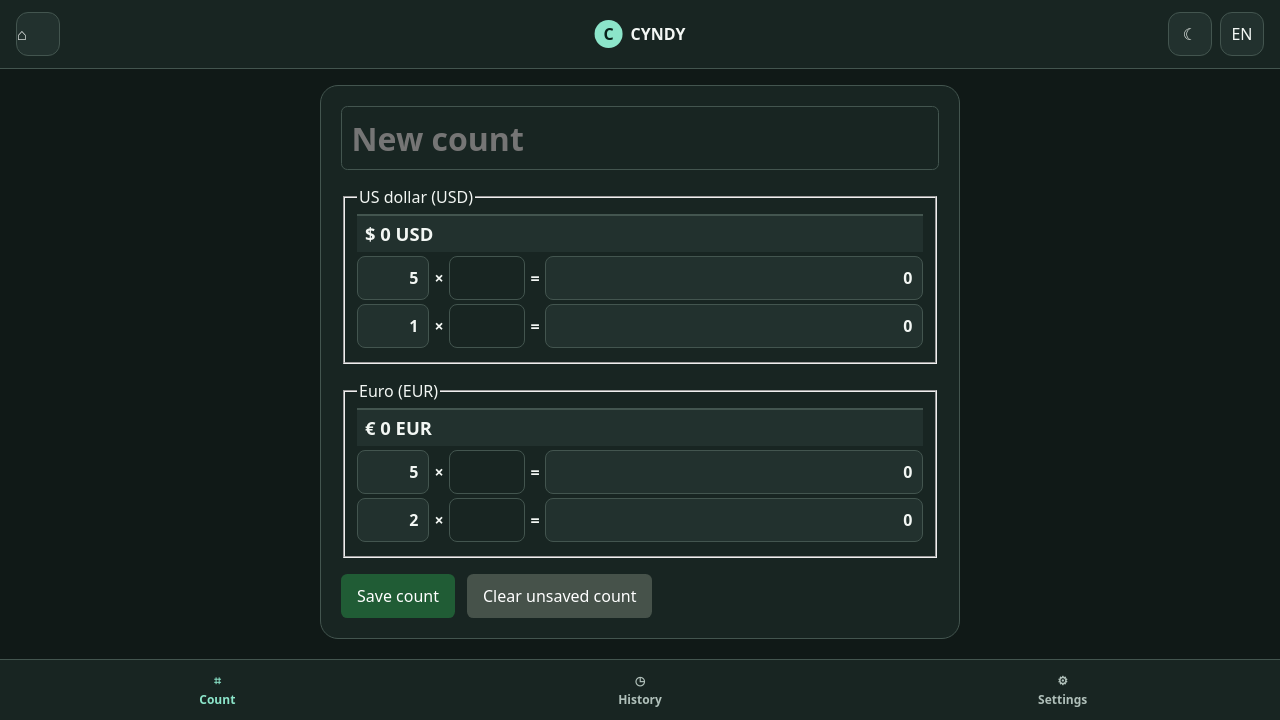
Test: new count route › saves two independent currency snapshots with an automatic timestamp and note
Type "3" into the number field named "$1 quantity".
click(487, 326); type("3")  # box [449, 304, 525, 348]
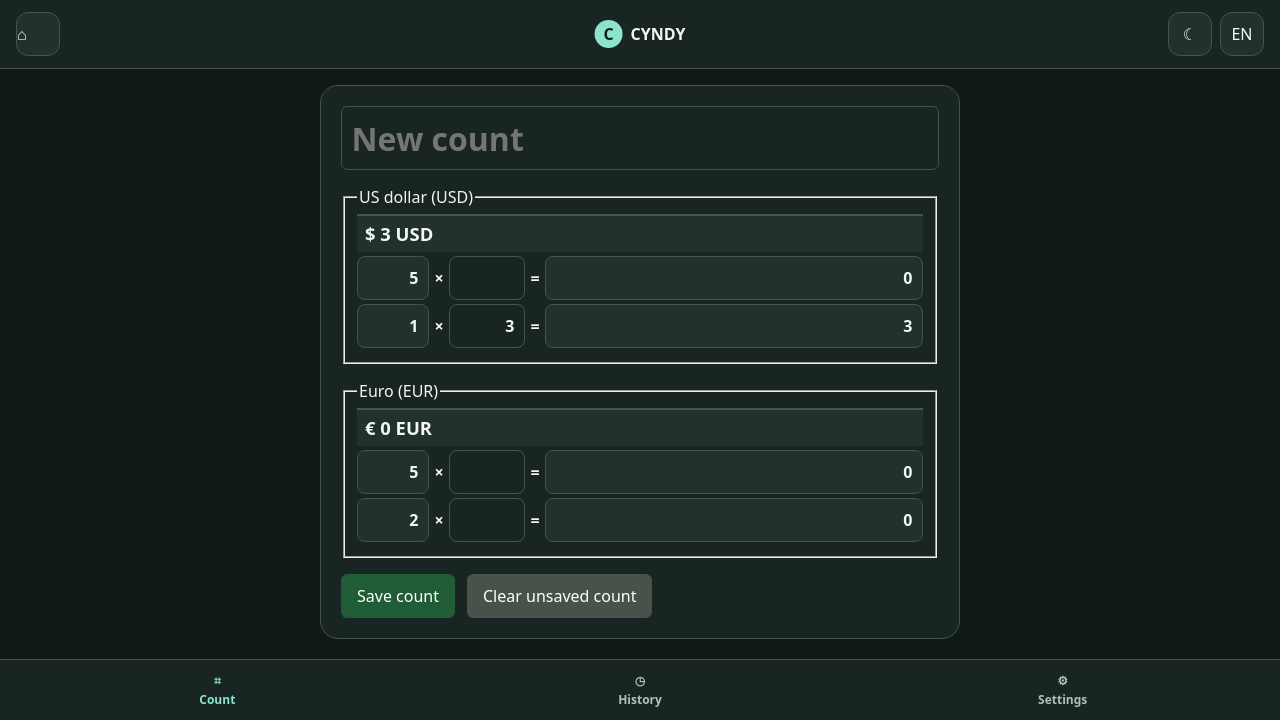
Type "2" into the number field named "$5 quantity".
click(487, 278); type("2")  # box [449, 256, 525, 300]
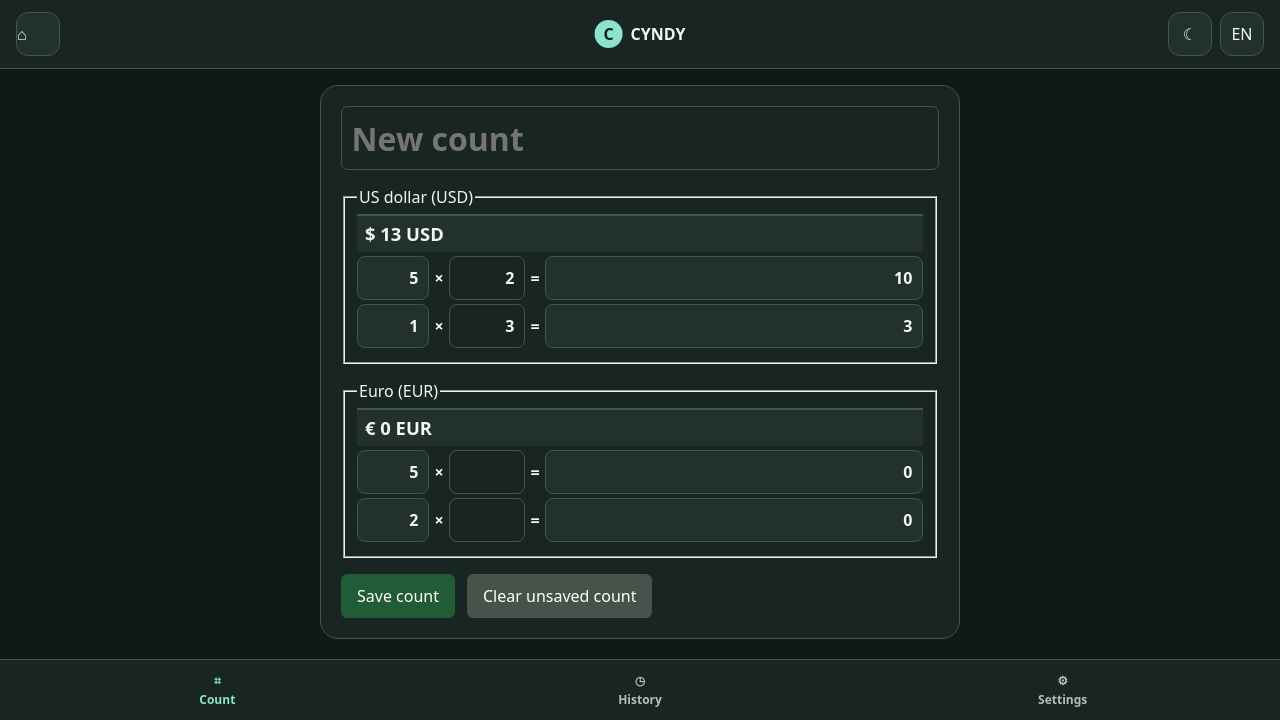
Type "4" into the number field named "€2 quantity".
click(487, 520); type("4")  # box [449, 498, 525, 542]
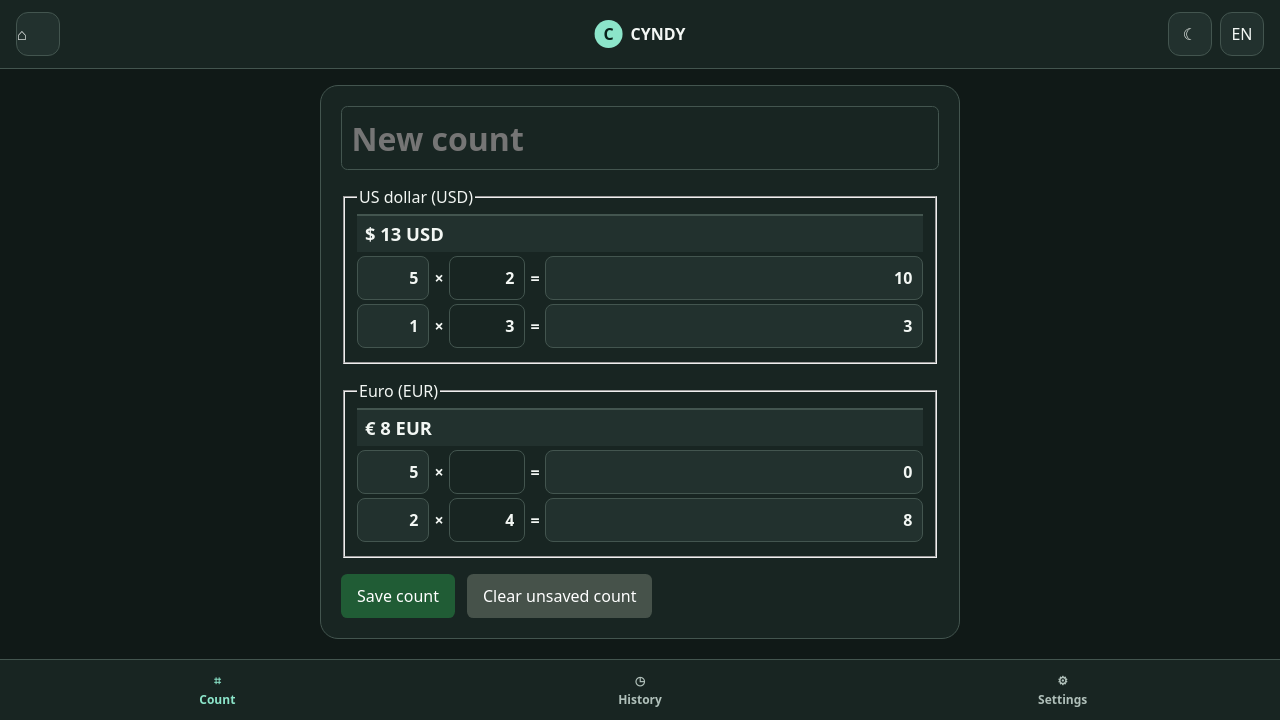
Type "1" into the number field named "€5 quantity".
click(487, 472); type("1")  # box [449, 450, 525, 494]
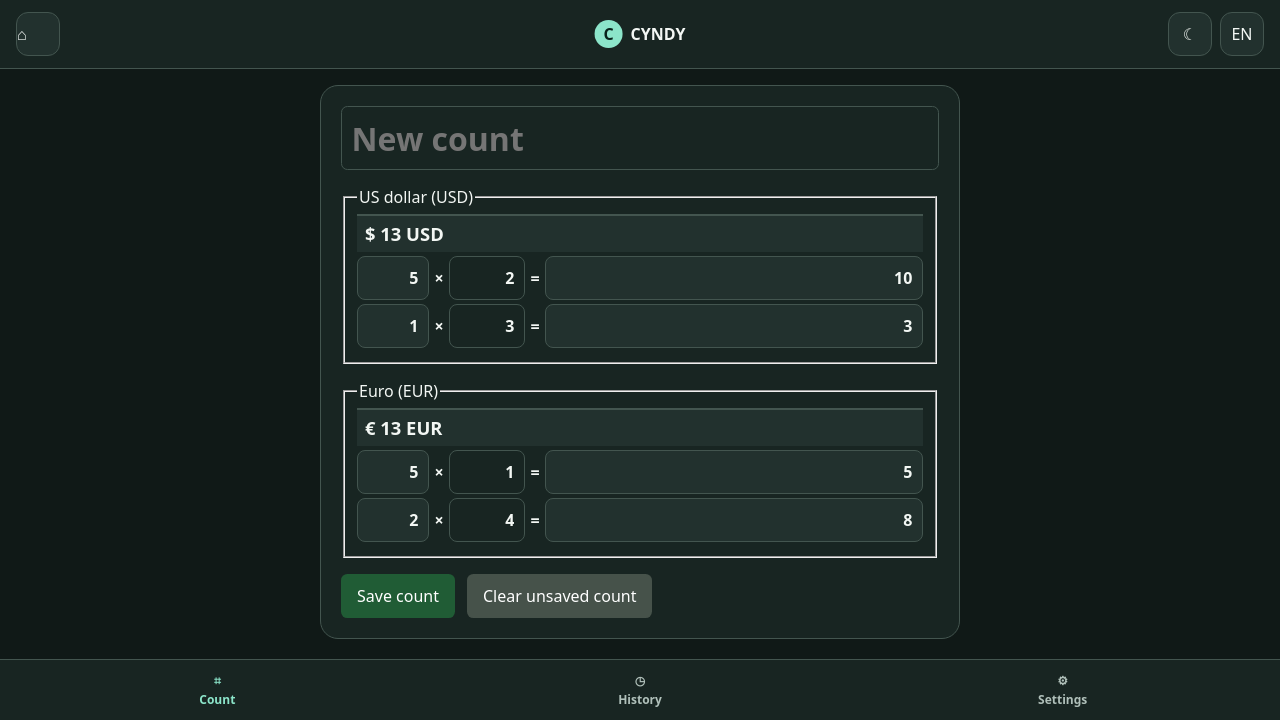
Type "Morning count" into the field named "Count title".
click(640, 138); type("Morning count")  # box [341, 106, 939, 170]
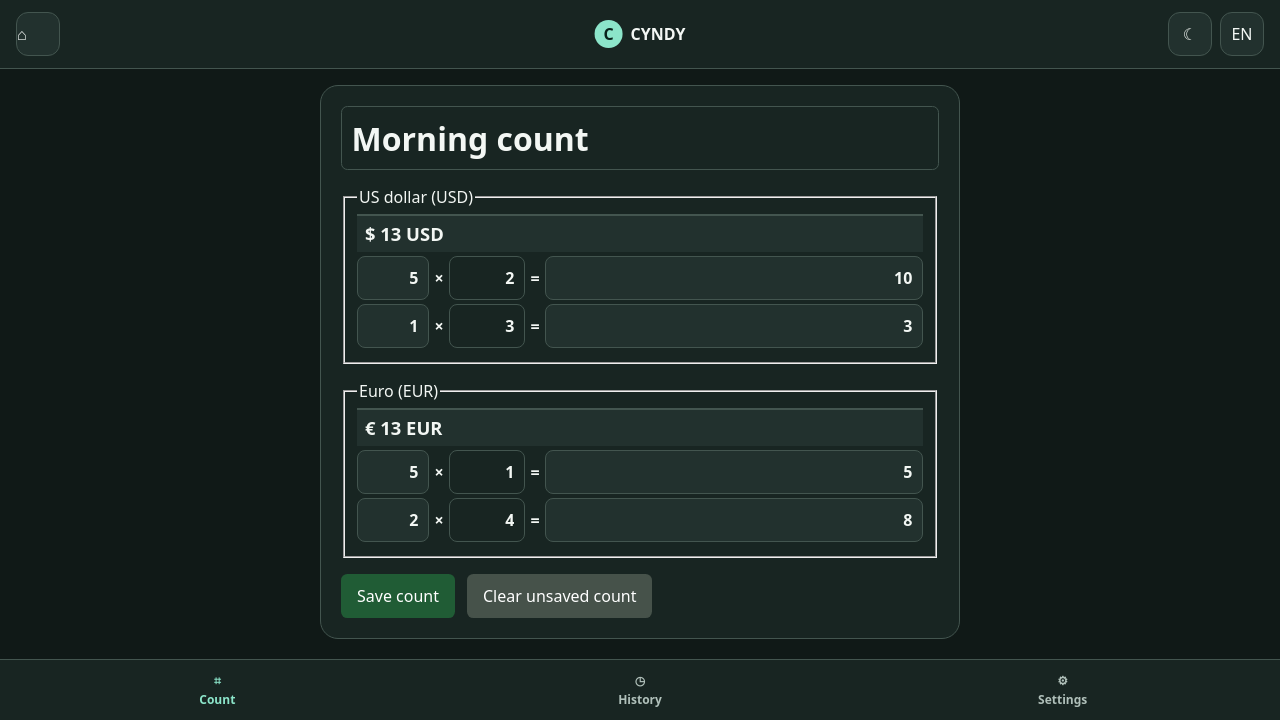
Check: the text "3" is shown, box [545, 304, 923, 348]
Check: the text "10" is shown, box [545, 256, 923, 300]
Check: the text "$ 13 USD" is shown, box [365, 221, 444, 246]
Click the button "Save count".
click(398, 596)  # box [341, 574, 455, 618]
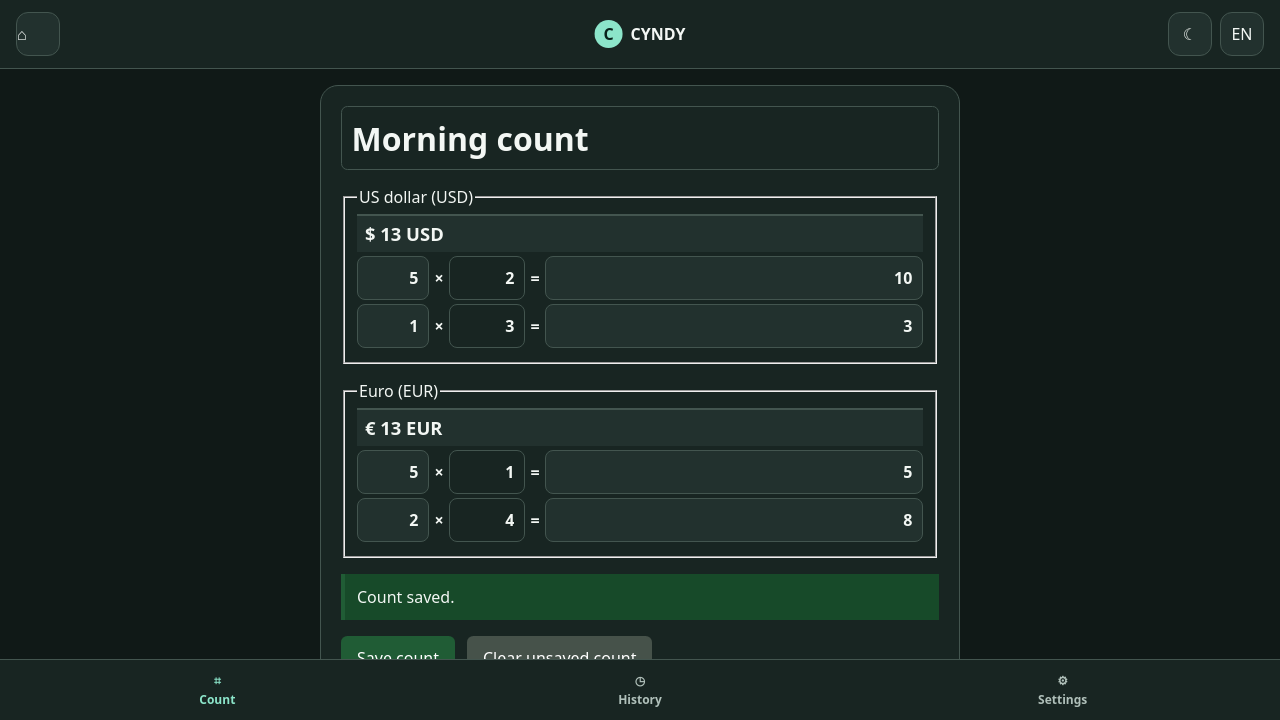
Check: the message reads "Count saved.", box [357, 586, 454, 608]
